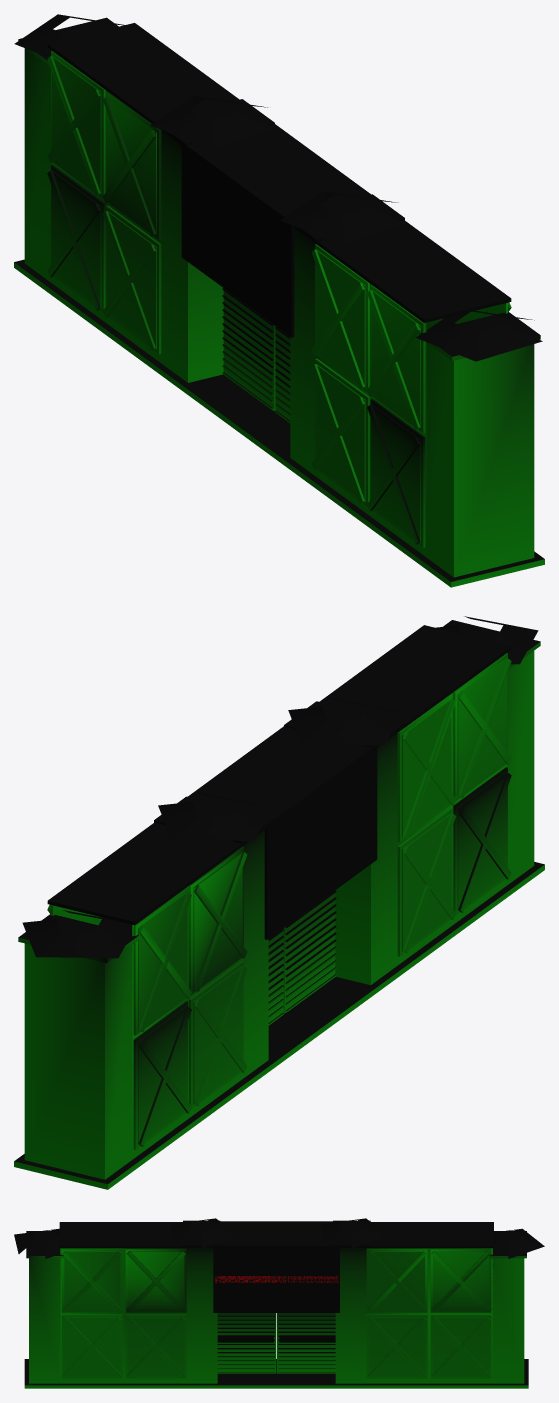
The model's file is l_heavygate.glb.
3 views of the same model, one above another, from view 1: azimuth 30°, elevation 25°; view 2: azimuth 150°, elevation 25°; view 3: azimuth 270°, elevation 25° (orthographic). The views are drawn at different scales.
Parts seen in each view (by area): view 1: lod0, door_l, door_r; view 2: lod0, door_r, door_l; view 3: lod0, door_r, door_l.
Boxes of the visible parts, x1,y1,x2,y2 form: lod0: [14, 14, 544, 587]; door_l: [222, 288, 275, 411]; door_r: [275, 326, 290, 423]; lod0: [14, 616, 544, 1189]; door_r: [283, 890, 336, 1013]; door_l: [268, 928, 283, 1025]; lod0: [14, 1218, 544, 1388]; door_r: [217, 1313, 276, 1373]; door_l: [277, 1313, 335, 1373].
Size of what is drawn, in the model's own units: 8.08 by 18.48 by 59.41.
